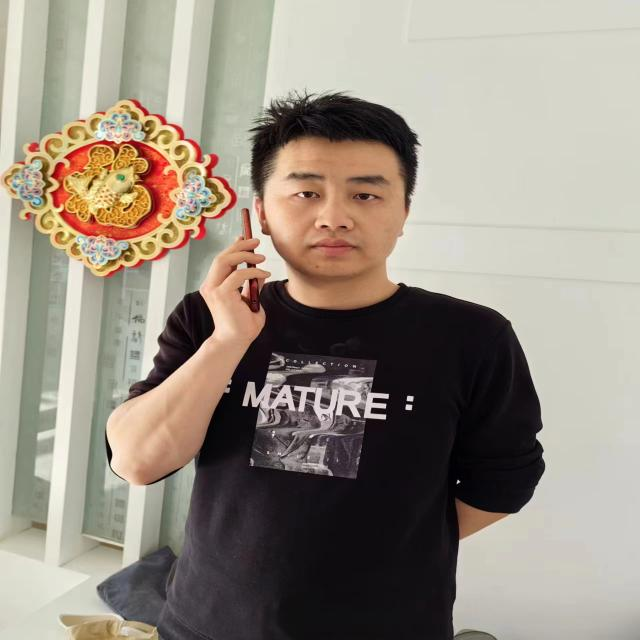phone: (236, 205, 264, 314)
